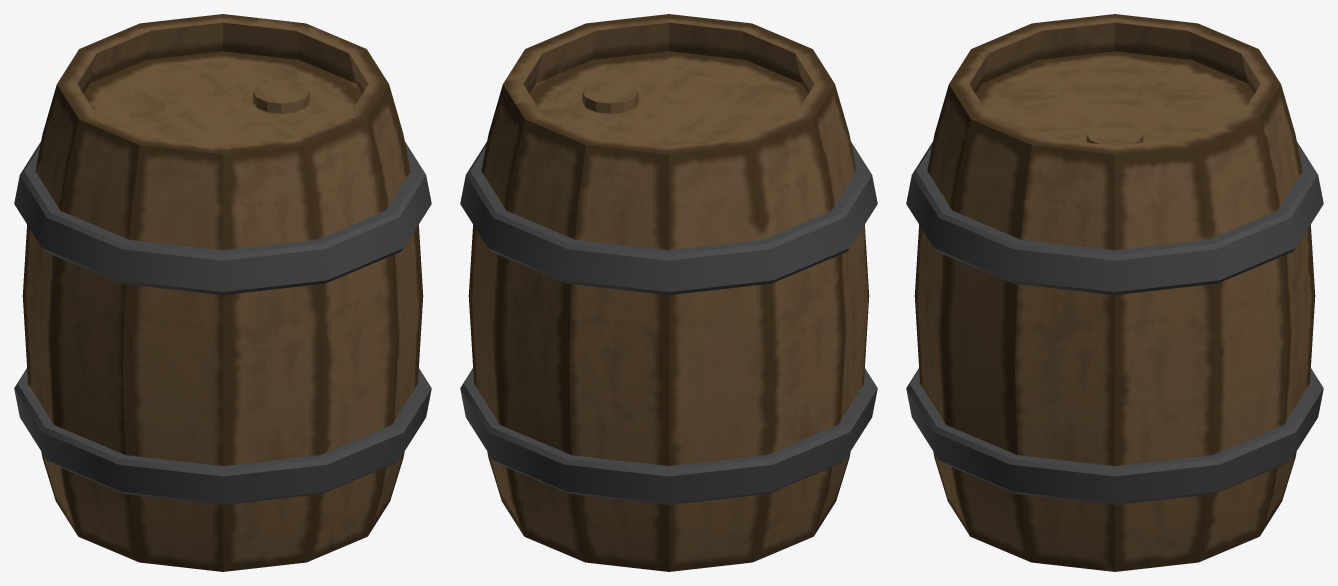
Rendered from barill.fbx.
The picture shows the model from 3 angles, left to right: view 1: azimuth 30°, elevation 25°; view 2: azimuth 150°, elevation 25°; view 3: azimuth 270°, elevation 25°; orthographic projection.
Visible parts, largest first — view 1: pCylinder1; view 2: pCylinder1; view 3: pCylinder1.
Part boxes in pixels (box(x1,y1,x2,y2)): pCylinder1: box(14, 14, 431, 571); pCylinder1: box(460, 14, 877, 571); pCylinder1: box(906, 14, 1323, 571).
Bounding box in the file's own units: 72.95 × 80.39 × 72.95.
Materials: 1 (1 with a texture image).
